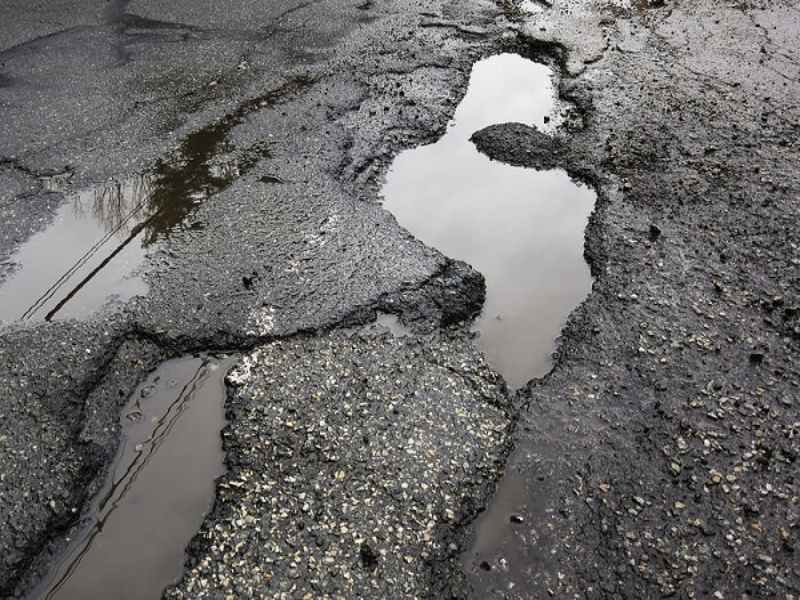pothole: (364, 32, 610, 405), (1, 323, 285, 600)
